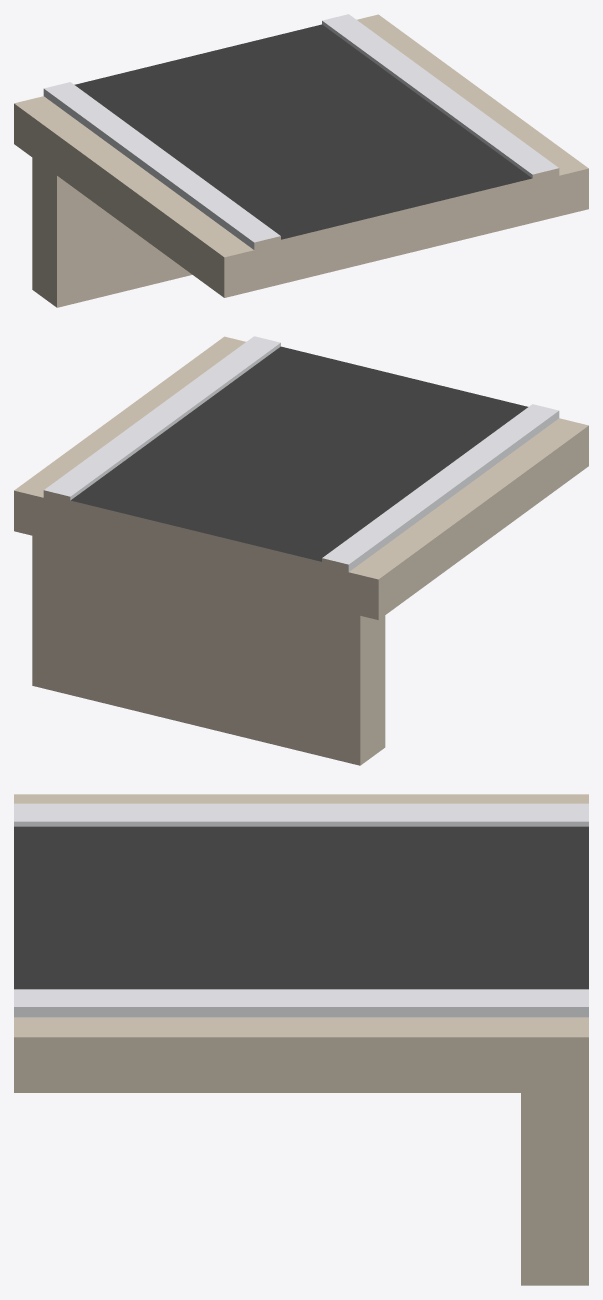
Rendered from roadStraightBridgeStart.obj.
The picture shows the model from 3 angles, top to bottom: view 1: azimuth 30°, elevation 25°; view 2: azimuth 150°, elevation 25°; view 3: azimuth 270°, elevation 25°; orthographic projection. The views are drawn at different scales.
Visible parts, largest first — view 1: roadStraightBridgeStart; view 2: roadStraightBridgeStart; view 3: roadStraightBridgeStart.
Part boxes in pixels (box(x1,y1,x2,y2)): roadStraightBridgeStart: box(14, 14, 588, 307); roadStraightBridgeStart: box(14, 336, 588, 765); roadStraightBridgeStart: box(14, 794, 588, 1285).
Size of the model in its own units: 1 by 0.52 by 1.
